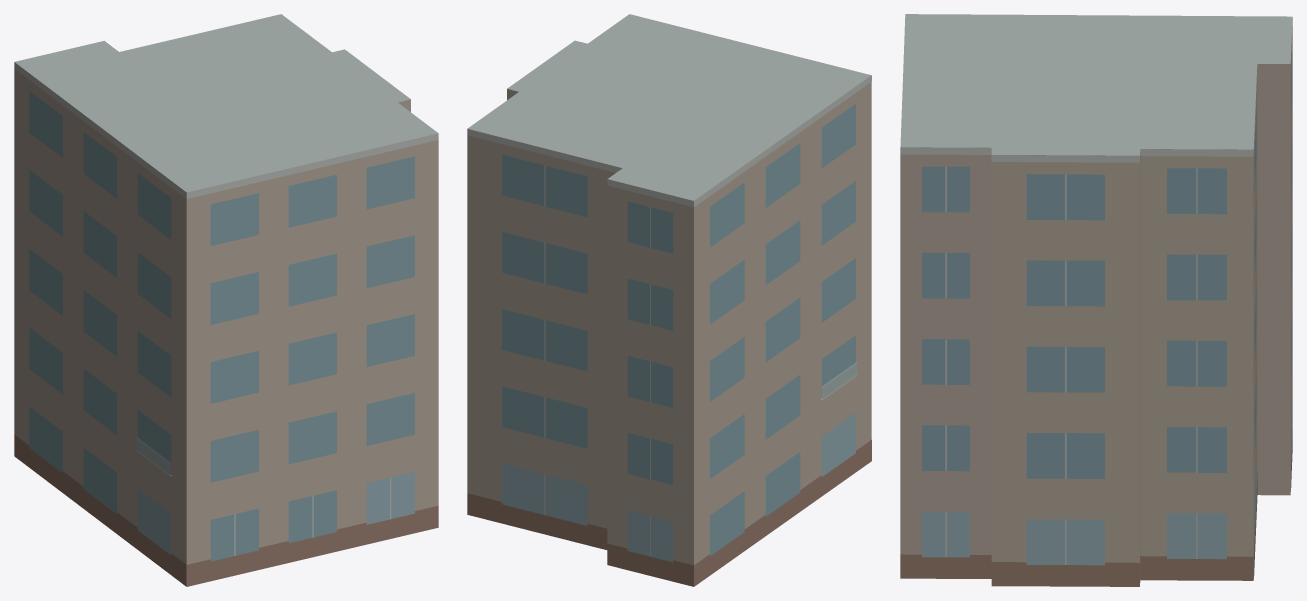
The model's file is survey-upis-32854857.glb.
3 renders of one model, left to right at view 1: azimuth 30°, elevation 25°; view 2: azimuth 150°, elevation 25°; view 3: azimuth 270°, elevation 25°, orthographic. The views are drawn at different scales.
Parts seen in each view (by area): view 1: survey-upis-32854857.tmp; view 2: survey-upis-32854857.tmp; view 3: survey-upis-32854857.tmp.
Boxes of the visible parts, x1,y1,x2,y2 form: survey-upis-32854857.tmp: (14, 14, 438, 586); survey-upis-32854857.tmp: (467, 14, 871, 586); survey-upis-32854857.tmp: (900, 14, 1292, 586).
Bounding box in the file's own units: 10.35 × 14.65 × 12.08.
